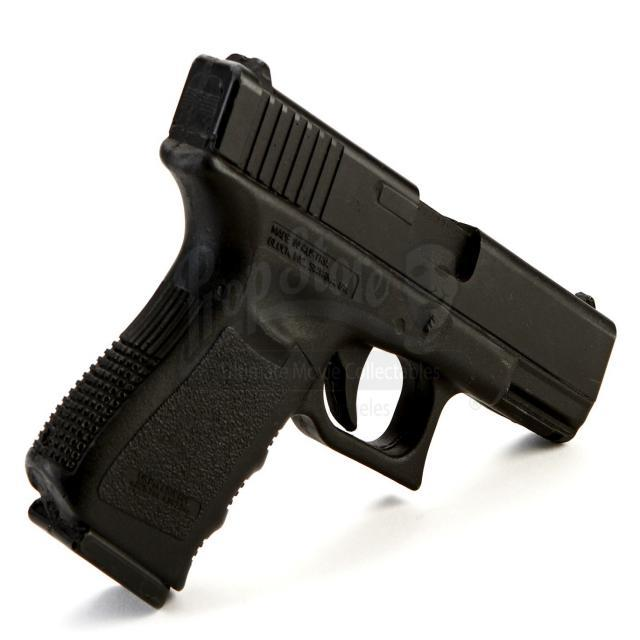gun-knife-thesis - v11 Yolov5 augmented: (23, 32, 630, 613)
